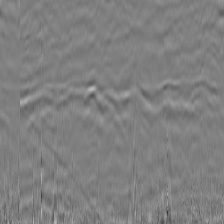cavities: (51, 43, 224, 178)
